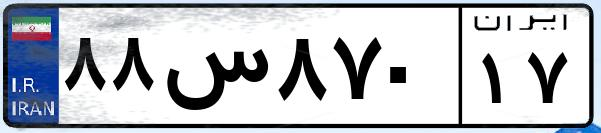0: (385, 28, 445, 110)
1: (475, 38, 525, 113)
7: (330, 28, 385, 110), (525, 38, 570, 115)
8: (270, 28, 330, 110), (57, 26, 110, 100), (110, 28, 158, 98)
س: (158, 20, 270, 120)
